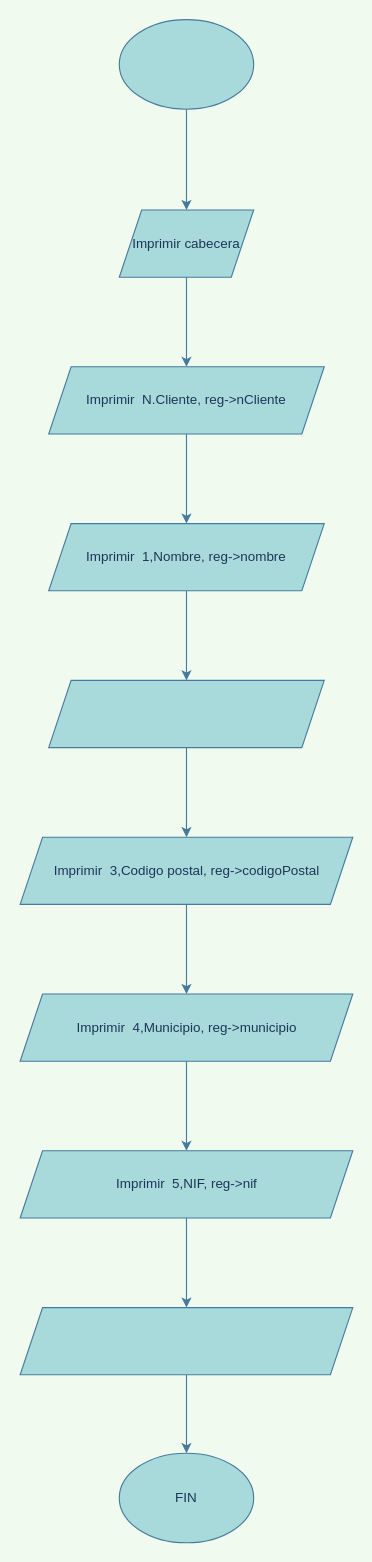
The diagram is 372 pixels wide and 1562 high, and some of its shapes have lost their labels. Here are the shapes that lost their labels. From the top down, the centre of each, then its label:
At (186,63): "INICIO".
At (186,713): "Imprimir 2,Domicilio, reg->domicilio".
At (186,1340): "Imprimir 6,Salir".
